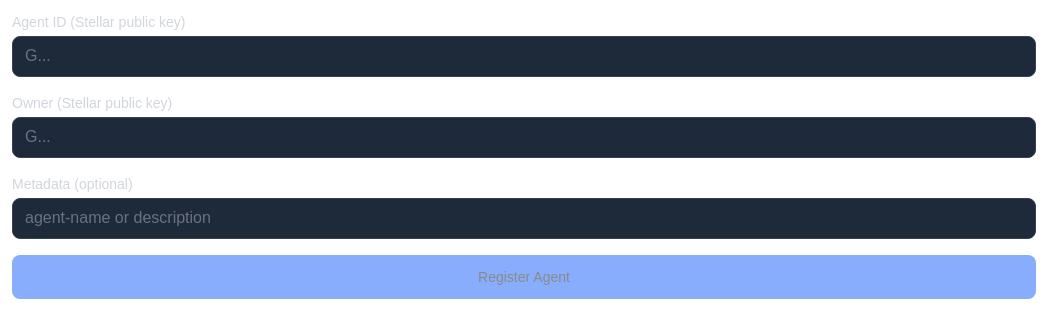
Test: AgentRegistrationForm › shows submitting state
Step 1. Type "GABCDEFG" into the field with placeholder "G..." below "Agent ID (Stellar public key)" → (524, 56), box [12, 36, 1036, 77]
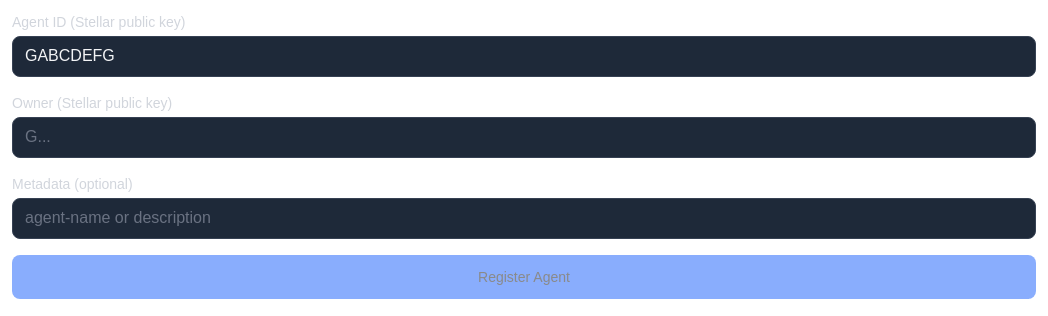
Step 2. Type "G1234567" into the field with placeholder "G..." → (524, 137), box [12, 117, 1036, 158]
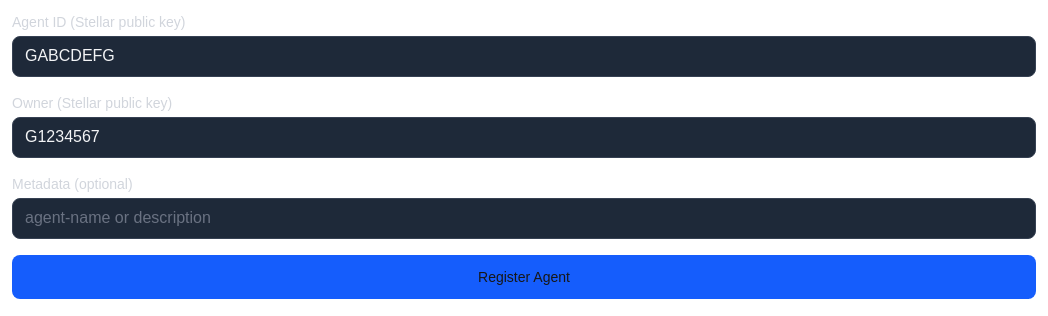
Step 3. Click the button "Register Agent" → click(524, 276), box [12, 254, 1036, 298]
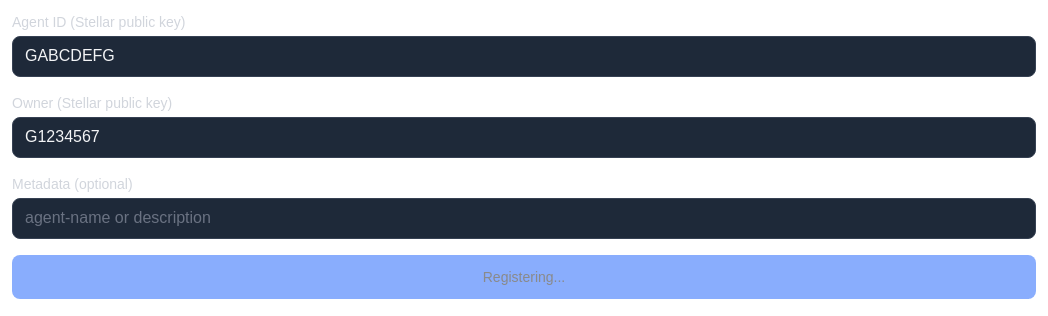
Check: the button "Registering..." is shown, box [12, 254, 1036, 298]
